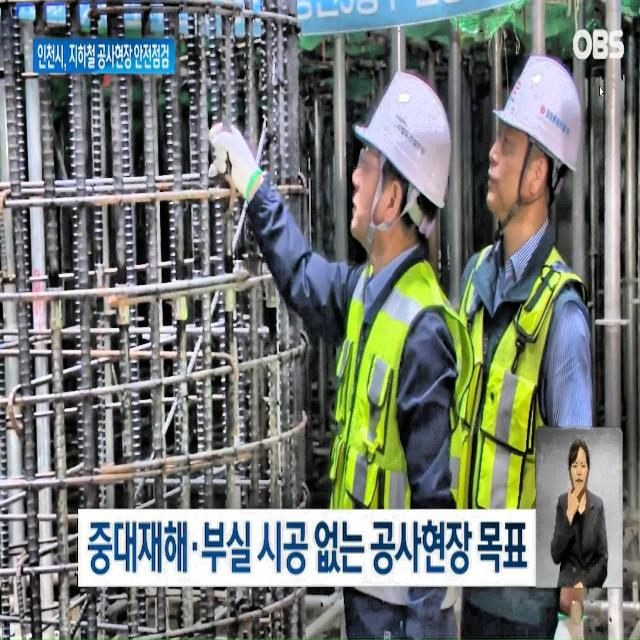safety_helmet: (346, 73, 458, 213), (492, 63, 589, 178)
safety_jacket: (459, 267, 606, 593), (322, 280, 453, 628)
